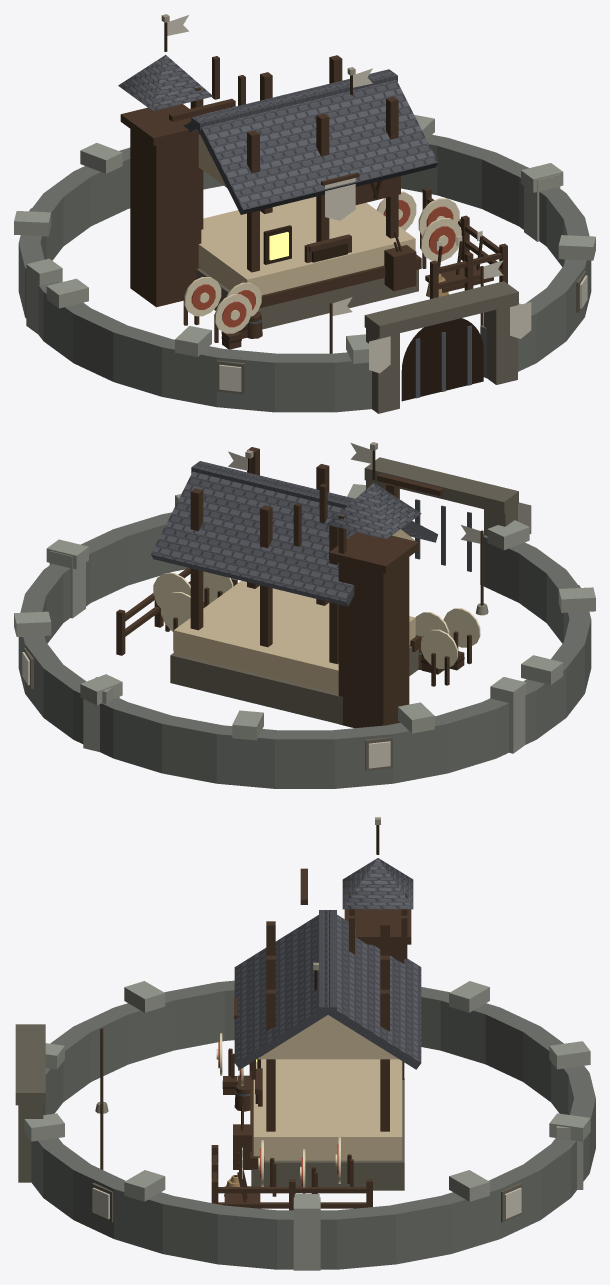
File: town-archer-L3.glb
The picture shows the model from 3 angles, top to bottom: view 1: azimuth 30°, elevation 25°; view 2: azimuth 150°, elevation 25°; view 3: azimuth 270°, elevation 25°; orthographic projection.
Parts seen in each view (by area): view 1: building-archer-L3, object 8, object 9, object 10, object 12, object 11, object 2, object 13, object 7; view 2: building-archer-L3, object 8, object 9, object 10, object 11, object 13, object 2; view 3: building-archer-L3, object 8, object 9, object 10, object 2, object 11.
Boxes of the visible parts, x1,y1,x2,y2 form: building-archer-L3: (118,14,507,342); object 8: (18,134,591,412); object 9: (14,114,595,363); object 10: (29,208,586,413); object 12: (401,318,483,401); object 11: (219,275,587,391); object 2: (222,266,483,353); object 13: (415,325,471,398); object 7: (332,260,503,315); building-archer-L3: (116,442,480,728); object 8: (18,512,591,788); object 9: (14,484,595,753); object 10: (23,457,580,770); object 11: (22,502,531,768); object 13: (415,499,471,571); object 2: (418,530,483,670); building-archer-L3: (211,817,421,1210); object 8: (31,980,595,1269); object 9: (24,981,590,1270); object 10: (15,1024,522,1222); object 2: (100,1028,250,1169); object 11: (92,1187,521,1219).
Size of the model in its own units: 7.02 by 3.68 by 6.95.
16 materials, 1 textured.
